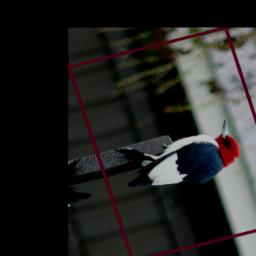Woodpecker: (110, 117, 251, 203)
